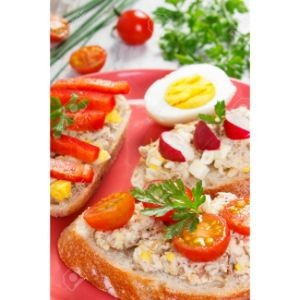tuna_brain food: (91, 117, 245, 283)
